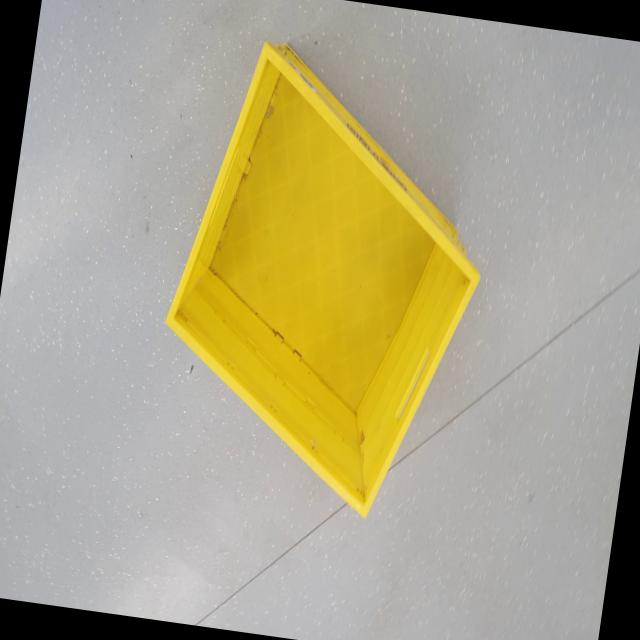box: (140, 26, 512, 538)
